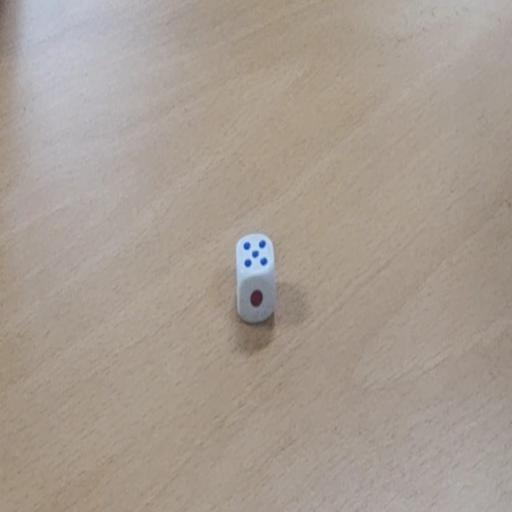dice_5: (235, 232, 277, 326)
